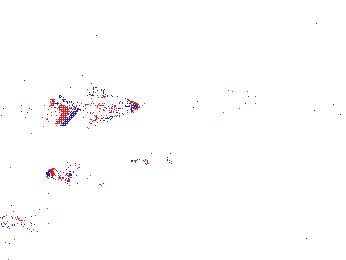red belly glassfish: (43, 165, 112, 187), (128, 150, 178, 171)
redtail glassfish: (171, 99, 241, 131), (64, 95, 139, 122), (188, 89, 269, 114), (45, 85, 97, 120)
